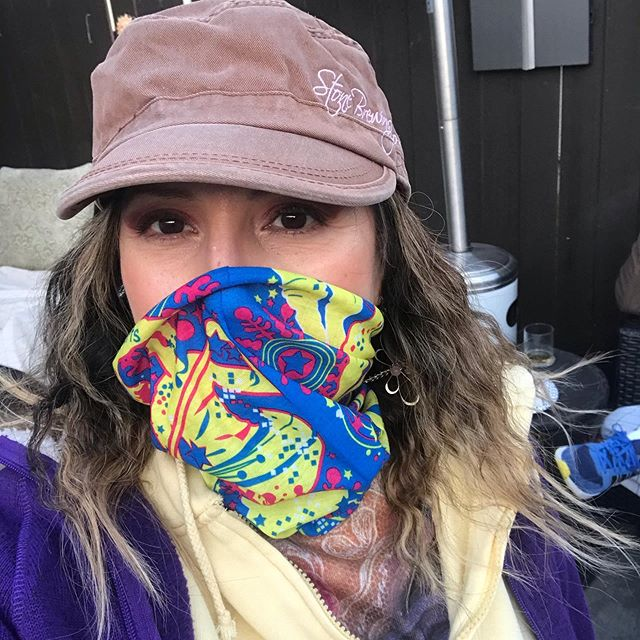homemade: (129, 279, 407, 521)
